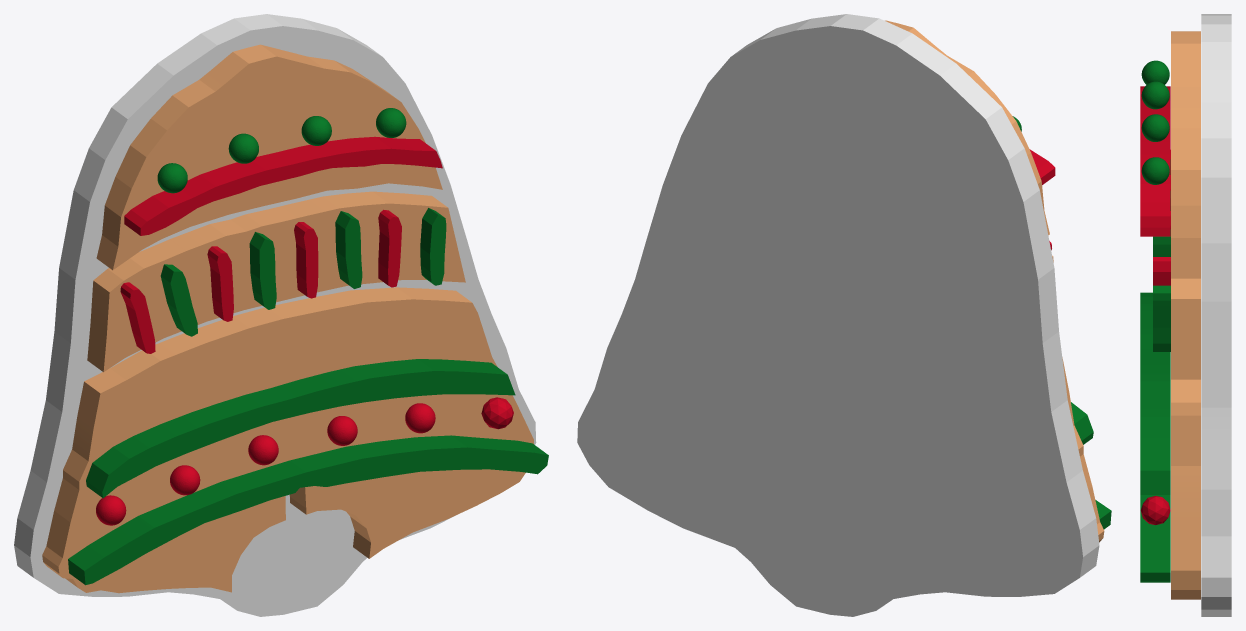
The model's file is Bell.glb.
The picture shows the model from 3 angles, left to right: view 1: azimuth 30°, elevation 25°; view 2: azimuth 150°, elevation 25°; view 3: azimuth 270°, elevation 25°; orthographic projection. The views are drawn at different scales.
Parts seen in each view (by area): view 1: Bell; view 2: Bell; view 3: Bell.
Boxes of the visible parts, bbox=[...] form: Bell: bbox=[14, 14, 548, 616]; Bell: bbox=[577, 14, 1111, 616]; Bell: bbox=[1140, 14, 1231, 616].
Bounding box in the file's own units: 0.2863 × 0.3205 × 0.0485.
